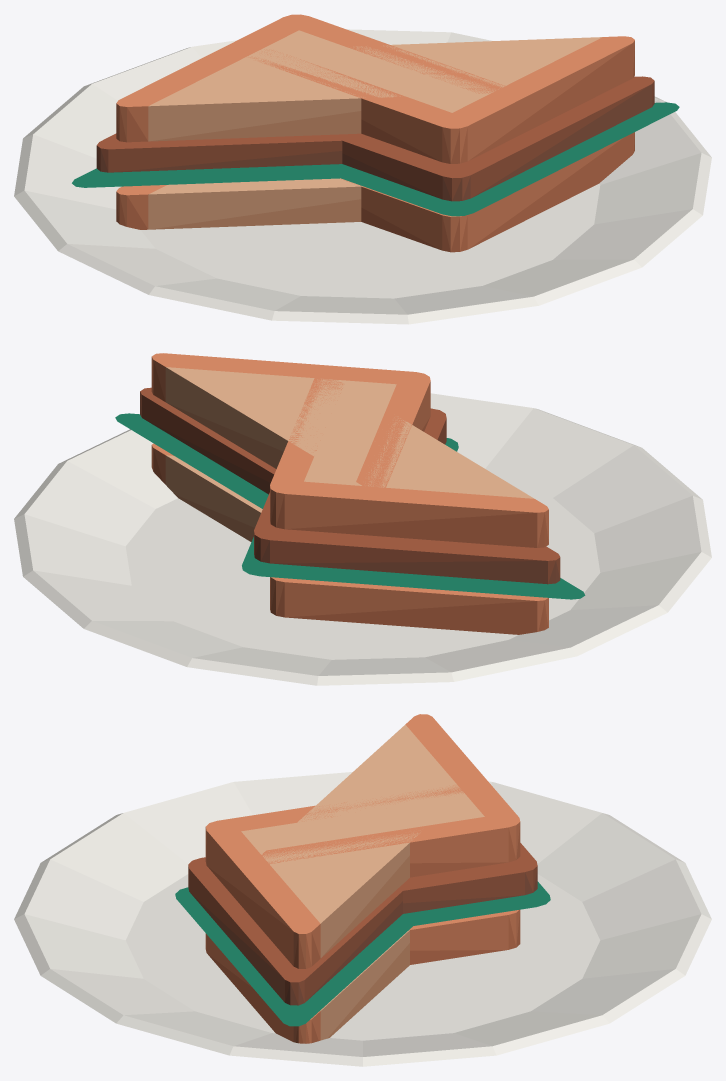
Rendered from m-sandwich.glb.
3 renders of one model, top to bottom at view 1: azimuth 30°, elevation 25°; view 2: azimuth 150°, elevation 25°; view 3: azimuth 270°, elevation 25°, orthographic.
Parts seen in each view (by area): view 1: m_sandwich; view 2: m_sandwich; view 3: m_sandwich.
Part boxes in pixels (x1,y1,x2,y2): m_sandwich: [14, 14, 711, 324]; m_sandwich: [14, 353, 711, 685]; m_sandwich: [14, 714, 711, 1066].
Bounding box in the file's own units: 0.24 × 0.0585 × 0.24.
